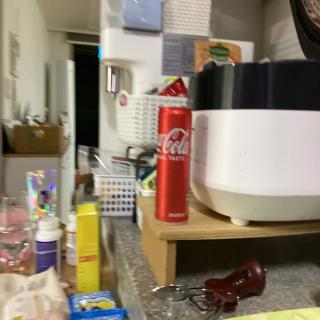cocacola: (156, 103, 190, 222)
